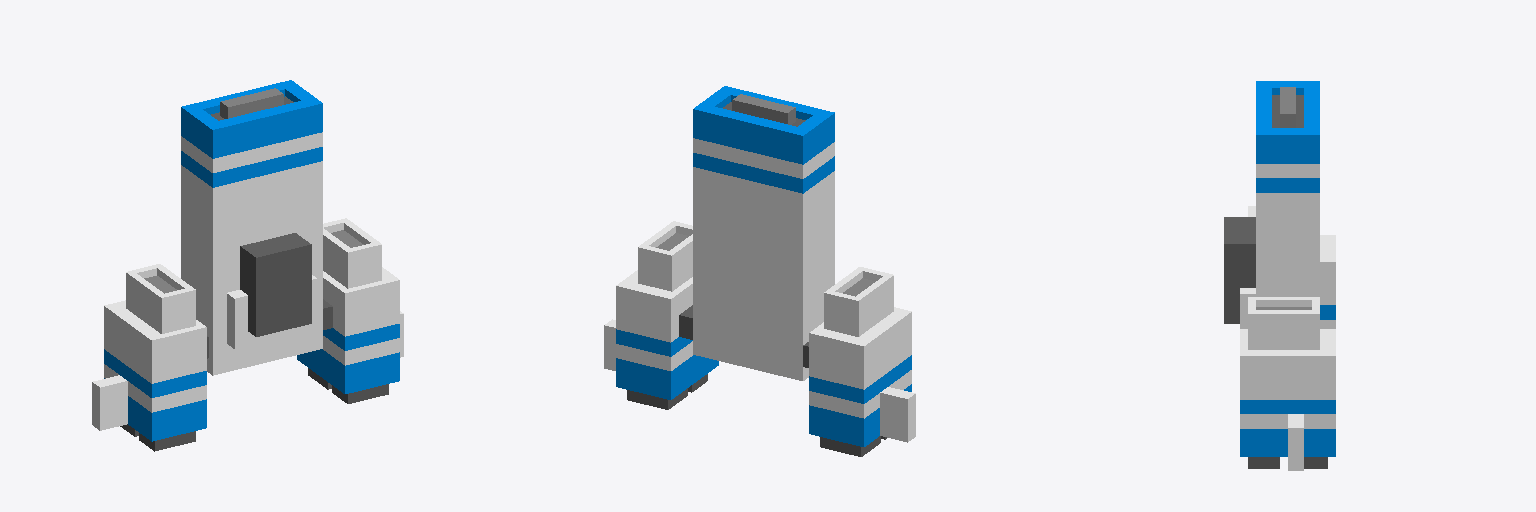
The picture shows the model from 3 angles: view 1: azimuth 30°, elevation 25°; view 2: azimuth 150°, elevation 25°; view 3: azimuth 270°, elevation 25°; orthographic projection.
Bounding box in the file's own units: 44 × 43 × 14.
Materials: 1 (1 with a texture image).